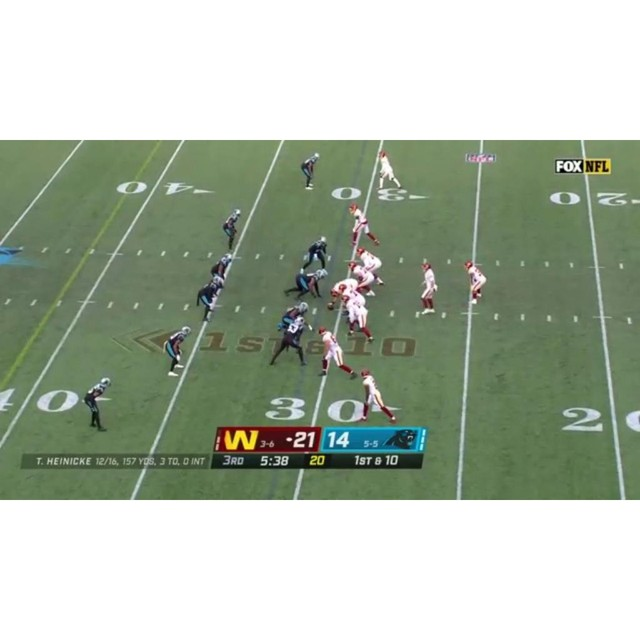american-football-player: (268, 316, 310, 367), (318, 325, 355, 380), (360, 369, 396, 423), (342, 294, 375, 343), (348, 202, 381, 247), (84, 376, 111, 431), (283, 269, 328, 301), (196, 275, 226, 322), (164, 326, 191, 377), (355, 246, 385, 285), (328, 277, 361, 311), (418, 261, 438, 315), (300, 236, 329, 273), (348, 262, 377, 298), (275, 302, 309, 332), (464, 259, 487, 303), (377, 151, 402, 190), (222, 209, 241, 251), (301, 152, 320, 189), (210, 253, 232, 281)
